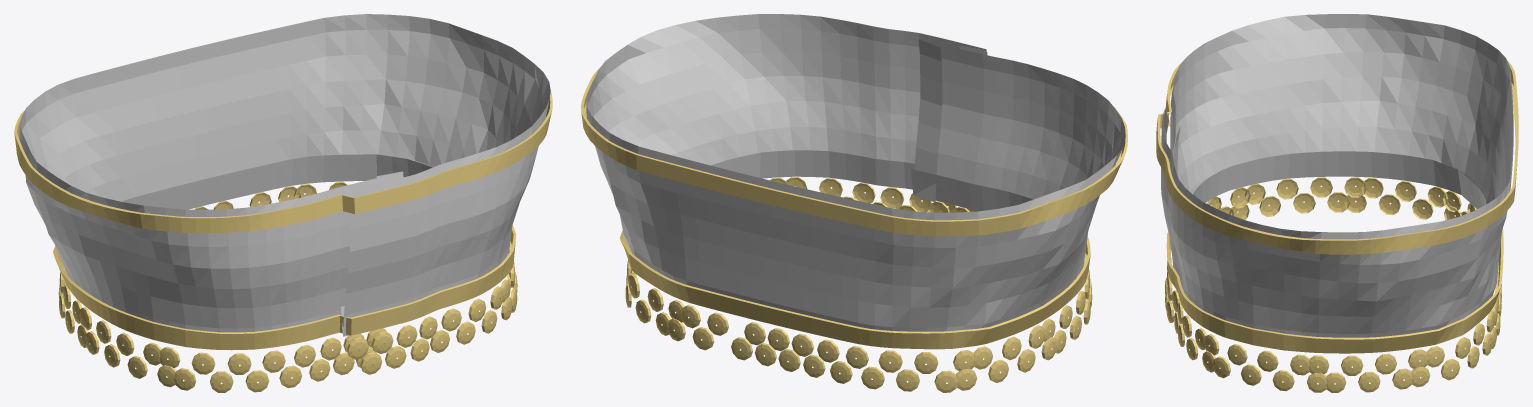
The model's file is ewb_bellytop.glb.
The picture shows the model from 3 angles, left to right: view 1: azimuth 30°, elevation 25°; view 2: azimuth 150°, elevation 25°; view 3: azimuth 270°, elevation 25°; orthographic projection. The views are drawn at different scales.
Visible parts, largest first — view 1: ewb_bellytop; view 2: ewb_bellytop; view 3: ewb_bellytop.
Part boxes in pixels (x1,y1,x2,y2): ewb_bellytop: [14, 14, 552, 392]; ewb_bellytop: [581, 14, 1127, 392]; ewb_bellytop: [1156, 14, 1518, 392].
Bounding box in the file's own units: 0.4059 × 0.1523 × 0.2793.
